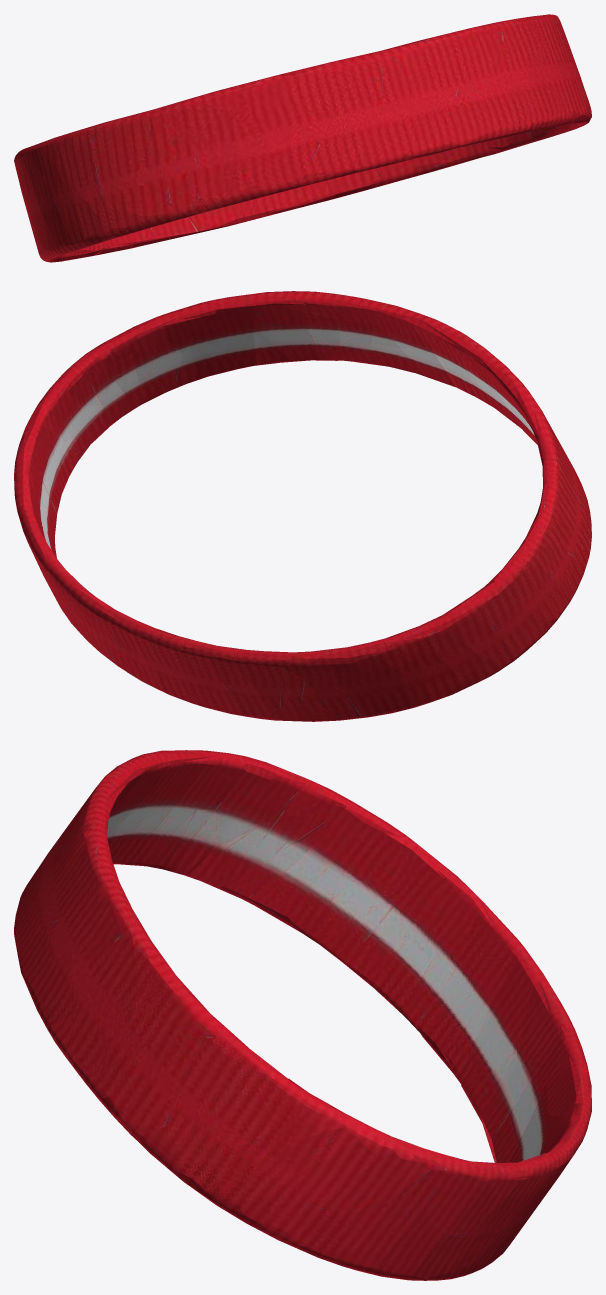
File: sweatband.glb
3 renders of one model, top to bottom at view 1: azimuth 30°, elevation 25°; view 2: azimuth 150°, elevation 25°; view 3: azimuth 270°, elevation 25°, orthographic. The views are drawn at different scales.
Bounding box in the file's own units: 1.9 × 1.02 × 1.4.
Materials: 1 (1 with a texture image).
